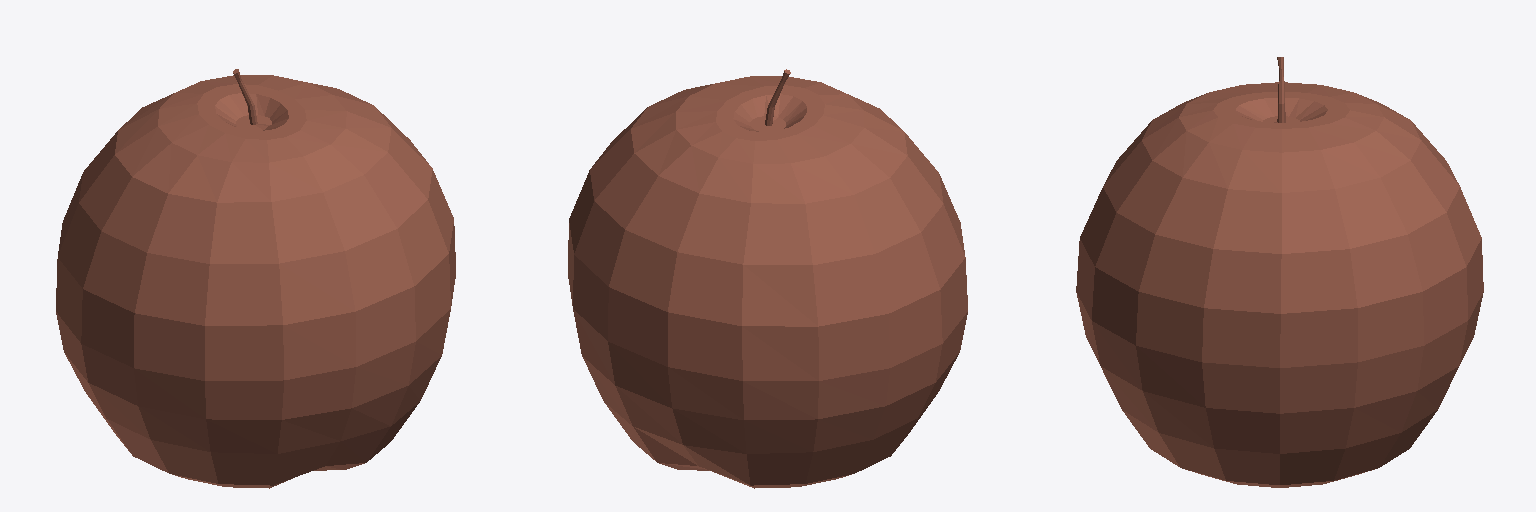
Rendered from apple.obj.
The picture shows the model from 3 angles: view 1: azimuth 30°, elevation 25°; view 2: azimuth 150°, elevation 25°; view 3: azimuth 270°, elevation 25°; orthographic projection.
Visible parts, largest first — view 1: Circle; view 2: Circle; view 3: Circle.
Part boxes in pixels (left/top/right/bottom): Circle: left=56, top=69, right=455, bottom=488; Circle: left=568, top=69, right=967, bottom=488; Circle: left=1076, top=57, right=1483, bottom=487.
Size of the model in its own units: 0.3681 by 0.3839 by 0.3719.